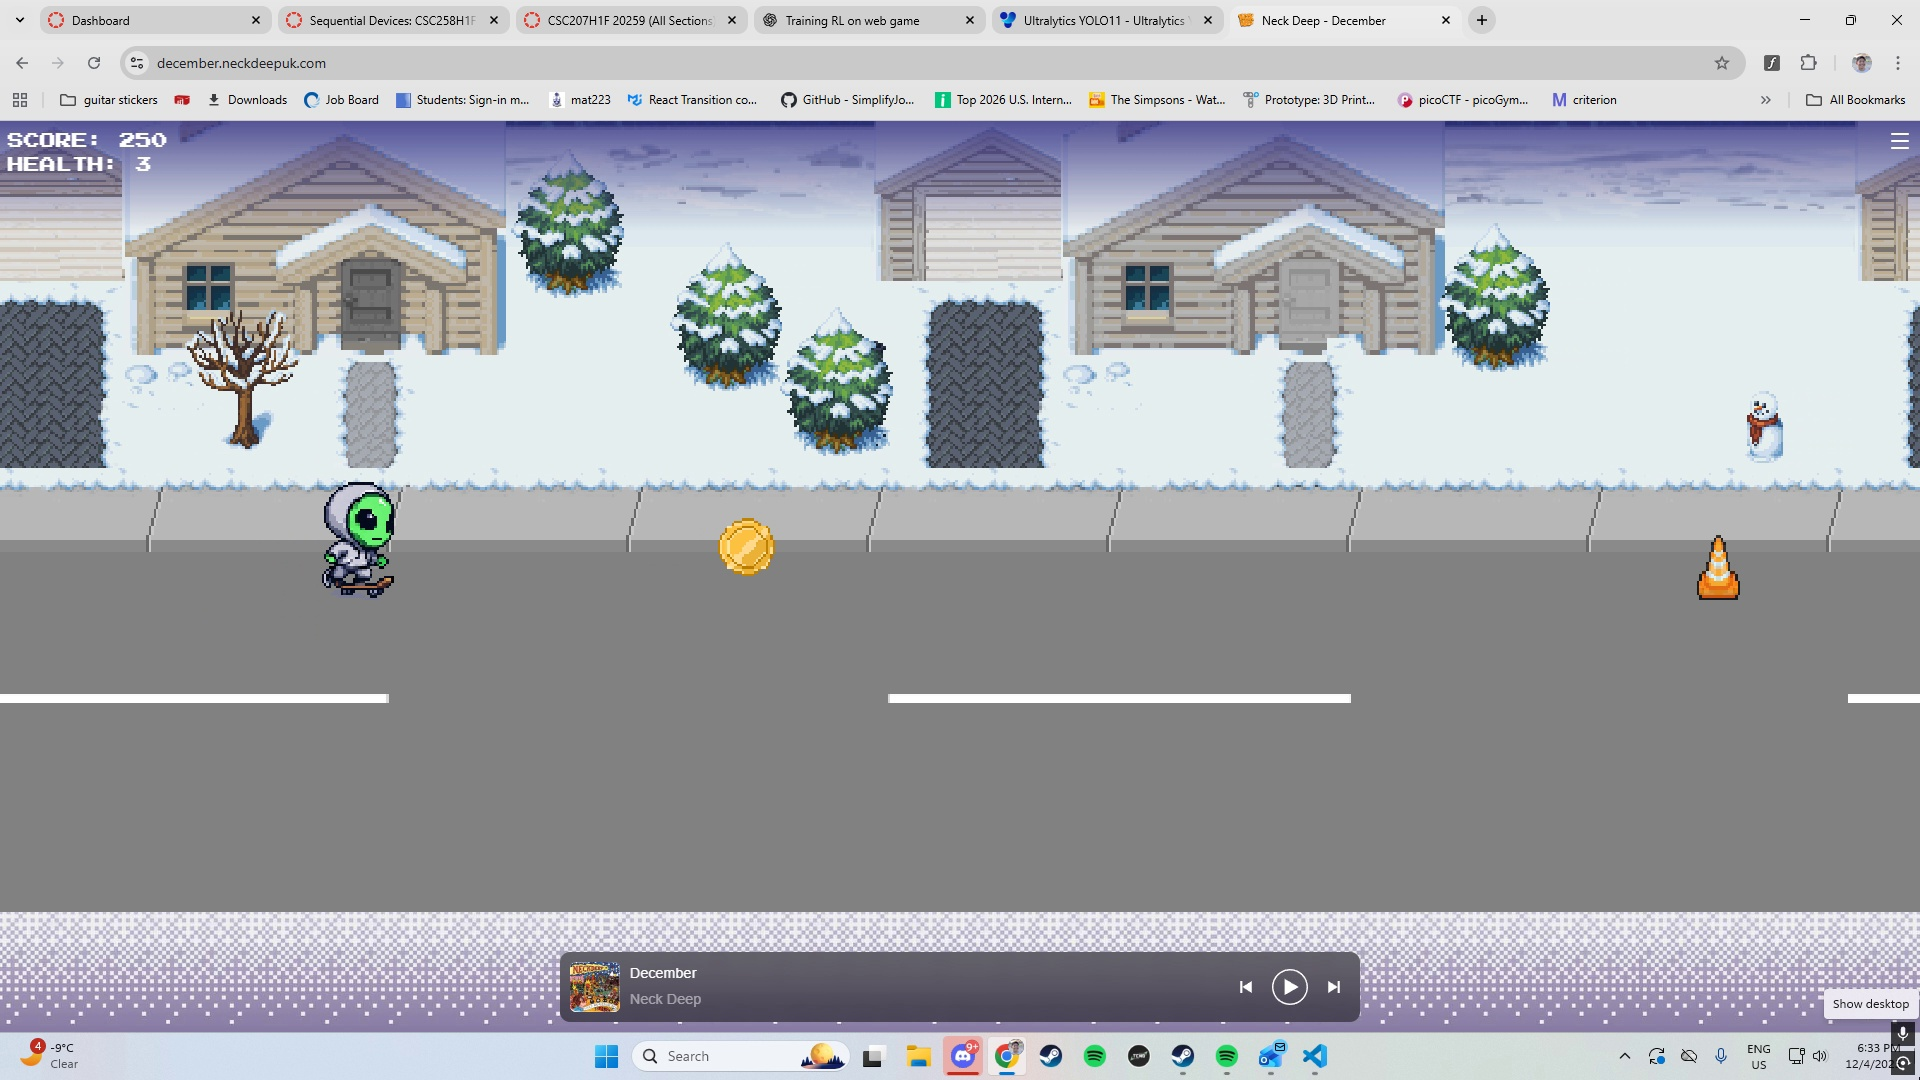Coin: (712, 514, 782, 581)
Cone: (1692, 532, 1746, 606)
Player: (313, 476, 408, 606)
